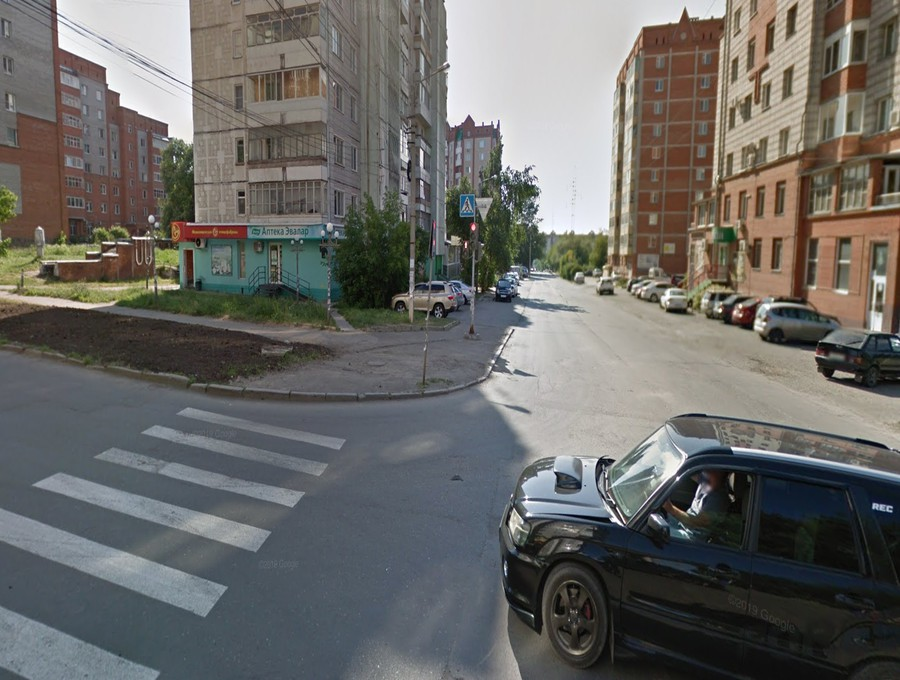Traffic Light-red: (461, 240, 471, 260)
